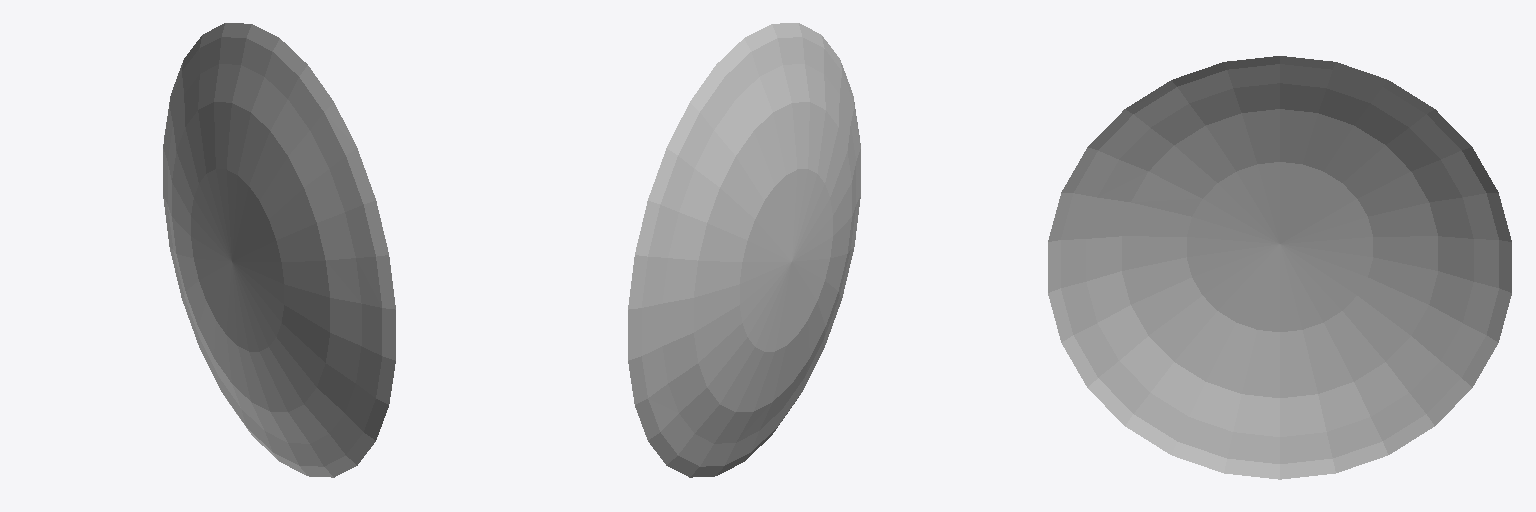
The model's file is cristal_tiempo_low.obj.
3 renders of one model, left to right at view 1: azimuth 30°, elevation 25°; view 2: azimuth 150°, elevation 25°; view 3: azimuth 270°, elevation 25°, orthographic.
Visible parts, largest first — view 1: pSphere3; view 2: pSphere3; view 3: pSphere3.
Part boxes in pixels (x1,y1,x2,y2): pSphere3: (163, 23, 395, 477); pSphere3: (628, 23, 860, 477); pSphere3: (1048, 56, 1511, 479).
Bounding box in the file's own units: 1.25 × 10.52 × 10.45.